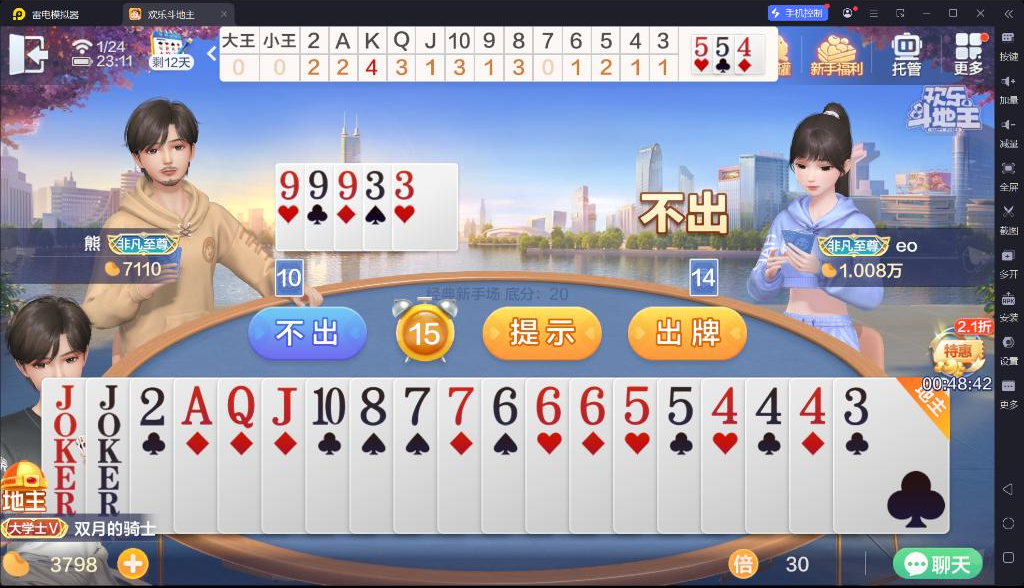A: (178, 383, 213, 428)
J: (267, 384, 299, 428)
JOKER: (51, 382, 79, 467)
Q: (223, 382, 257, 429)
eight: (356, 384, 387, 428)
five: (621, 383, 652, 425), (664, 384, 694, 427), (694, 35, 709, 57), (715, 35, 730, 57)
four: (753, 384, 786, 426), (796, 384, 828, 426), (708, 384, 739, 425), (736, 36, 754, 58)
joker: (96, 381, 124, 466)
nine: (278, 169, 300, 201), (307, 168, 329, 200), (336, 169, 358, 201)
seven: (399, 384, 433, 428), (444, 383, 474, 427)
six: (489, 384, 519, 428), (532, 384, 562, 427), (578, 384, 608, 427)
ten: (308, 384, 347, 427)
three: (840, 385, 870, 426), (394, 168, 417, 202), (364, 170, 386, 203)
two: (136, 382, 168, 429)
